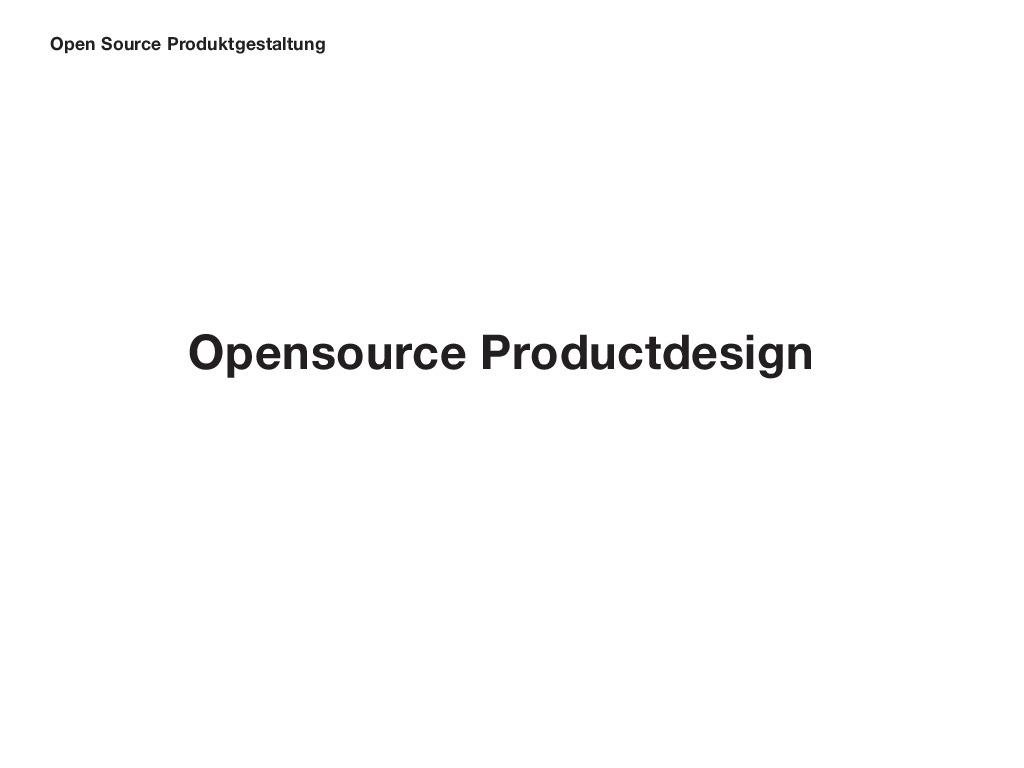subtitle: (179, 322, 826, 389)
title: (40, 22, 350, 62)
